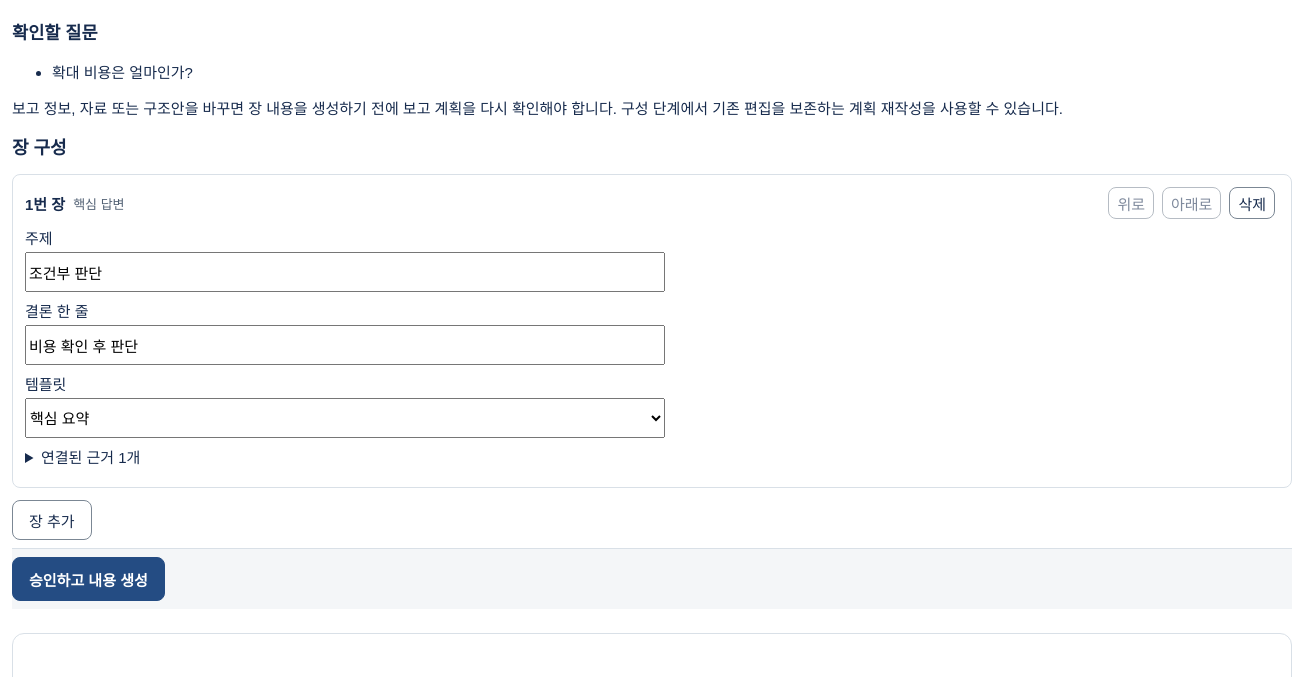
Test: 미승인 장 구성 변경은 재작성을 차단한다
(page scrolled)
Type " 편집" into the field named "1번 장 주제" at (345, 272), box [25,252,665,292]
(page scrolled)
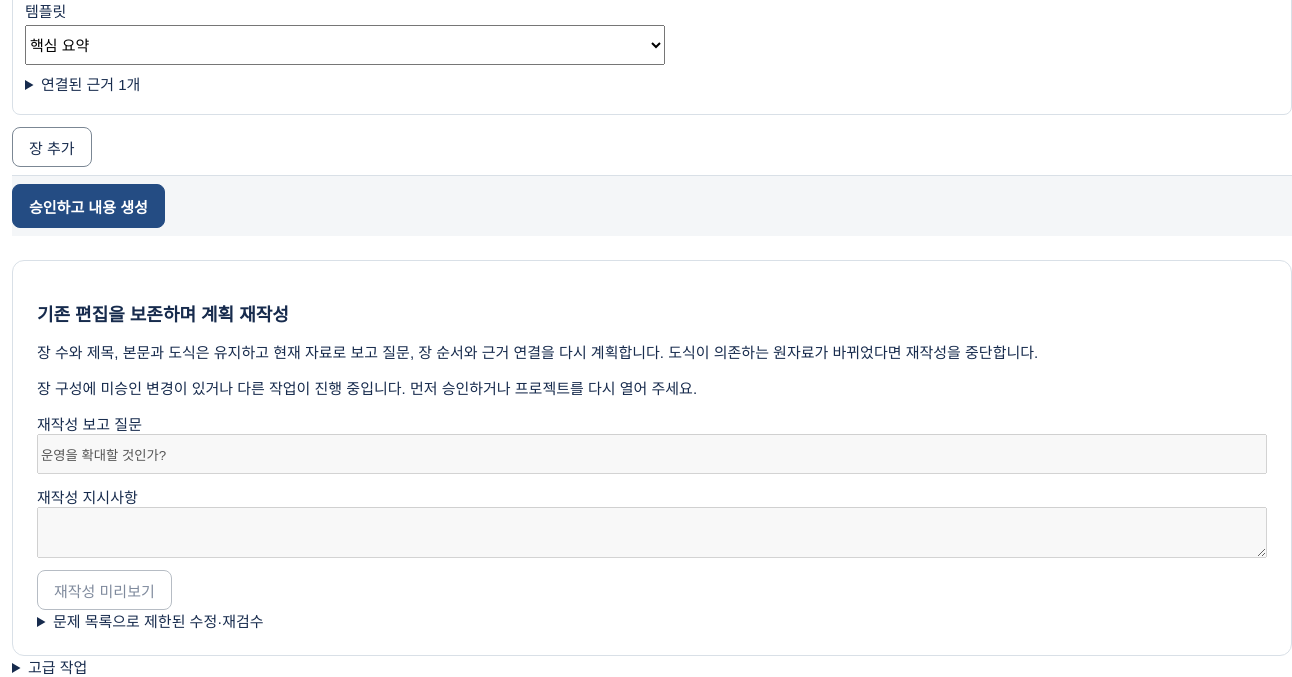
Now the button "재작성 미리보기" is disabled, box [37,570,172,610]
